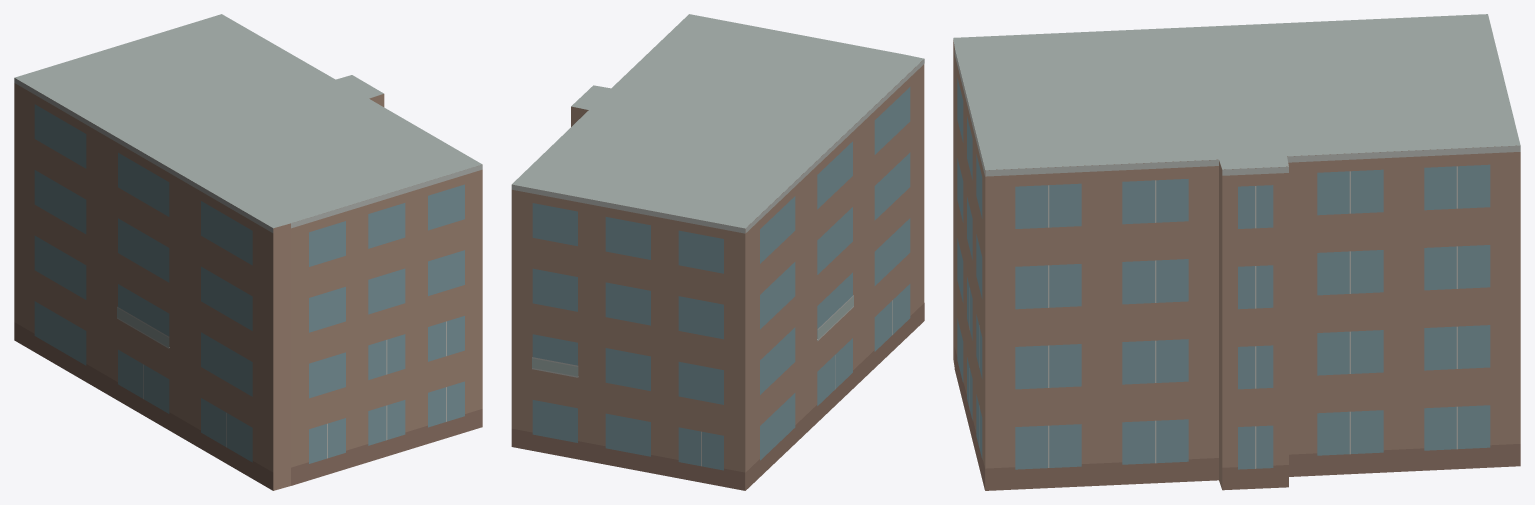
The model's file is survey-upis-33045288.glb.
3 renders of one model, left to right at view 1: azimuth 30°, elevation 25°; view 2: azimuth 150°, elevation 25°; view 3: azimuth 270°, elevation 25°, orthographic. The views are drawn at different scales.
Parts seen in each view (by area): view 1: survey-upis-33045288.tmp; view 2: survey-upis-33045288.tmp; view 3: survey-upis-33045288.tmp.
Part boxes in pixels (left/top/right/bottom): survey-upis-33045288.tmp: left=14, top=14, right=482, bottom=490; survey-upis-33045288.tmp: left=511, top=14, right=924, bottom=490; survey-upis-33045288.tmp: left=953, top=14, right=1520, bottom=490.
Size of the model in its own units: 13.02 by 12.45 by 19.98.
